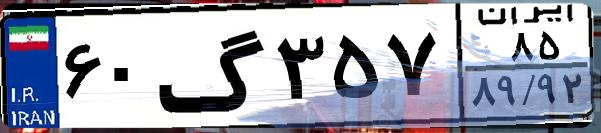0: (110, 28, 156, 98)
2: (560, 70, 590, 125)
3: (270, 28, 330, 110)
5: (330, 28, 385, 110), (537, 27, 568, 80)
6: (57, 26, 110, 100)
7: (385, 28, 445, 110)
8: (508, 27, 537, 80), (470, 70, 495, 125)
9: (495, 70, 520, 125), (535, 70, 560, 125)
گ: (156, 12, 270, 120)
